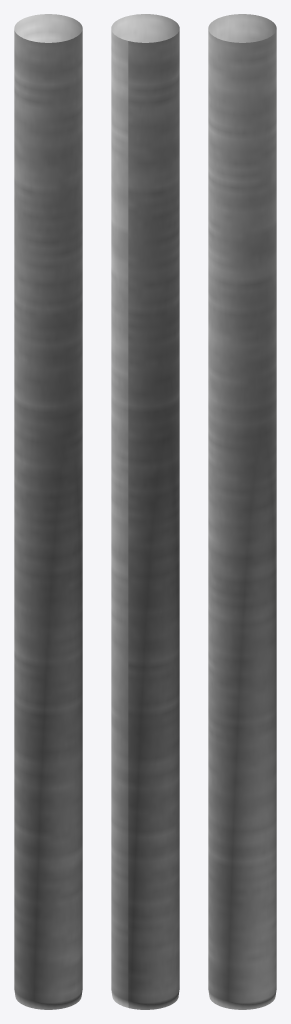
The model's file is poste.obj.
3 renders of one model, left to right at view 1: azimuth 90°, elevation 25°; view 2: azimuth 150°, elevation 25°; view 3: azimuth 270°, elevation 25°, orthographic.
Parts seen in each view (by area): view 1: Object; view 2: Object; view 3: Object.
Boxes of the visible parts, x1,y1,x2,y2 form: Object: (14, 14, 82, 1009); Object: (111, 14, 179, 1009); Object: (208, 14, 276, 1009).
Bounding box in the file's own units: 1.39 × 21.6 × 1.39.
